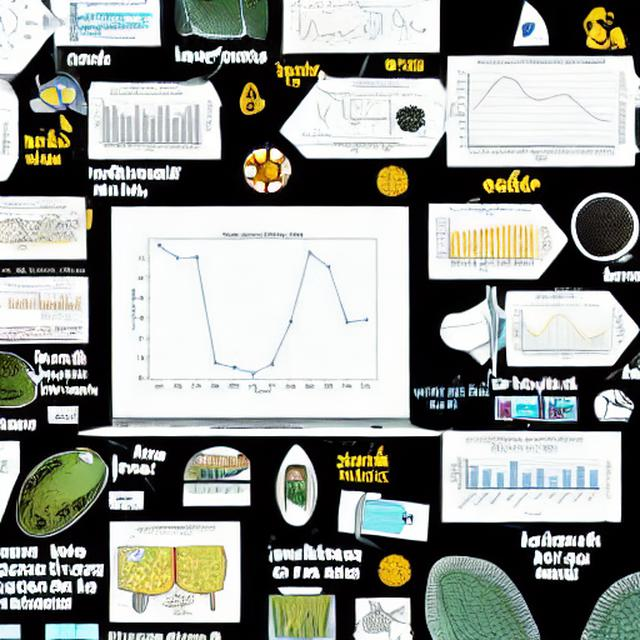Graph: (112, 207, 406, 409), (448, 58, 618, 162), (446, 434, 604, 519), (90, 89, 207, 156), (432, 207, 536, 275), (508, 301, 611, 361), (294, 8, 362, 50), (29, 284, 81, 321)
